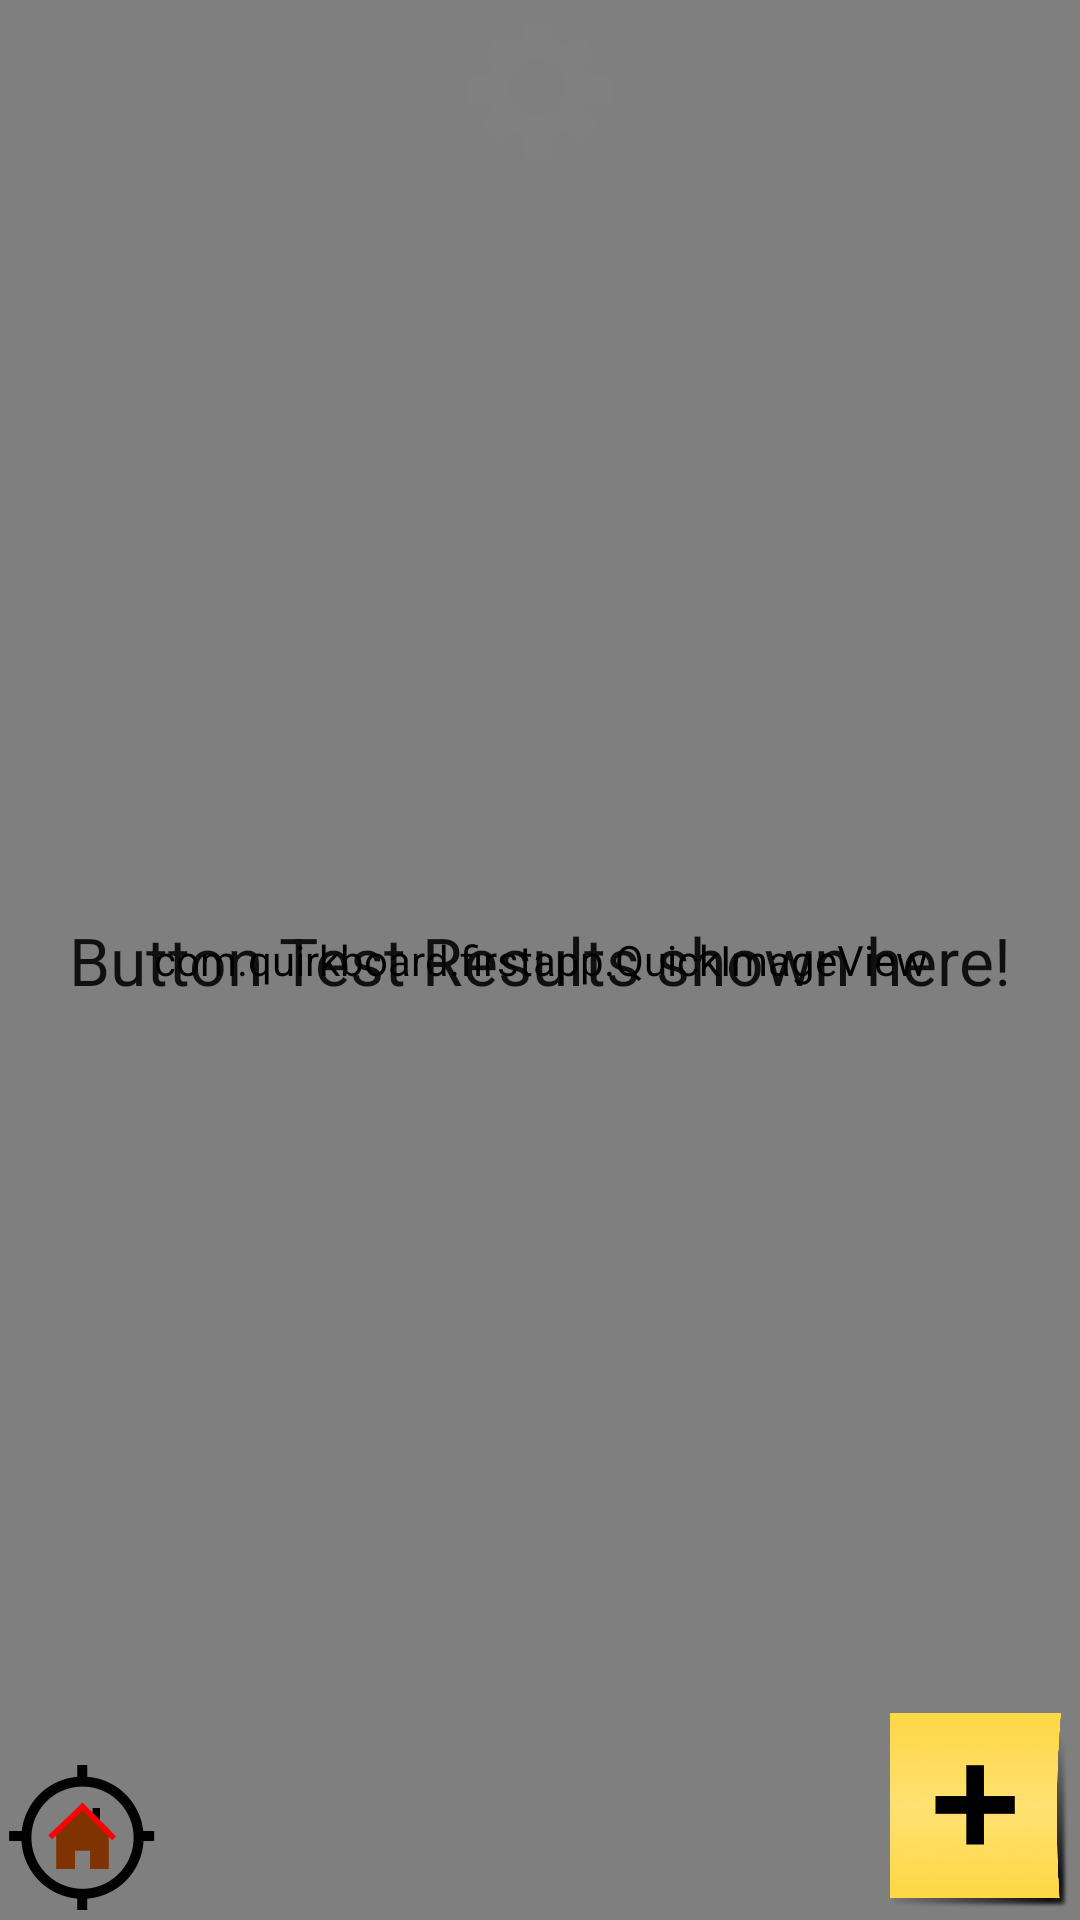

Icon bounding boxes for this 1080×1920 phone screenshot, format (x1, y1, x2, y2):
homeicon: (9, 1765, 154, 1910)
posticon: (890, 1713, 1066, 1906)
